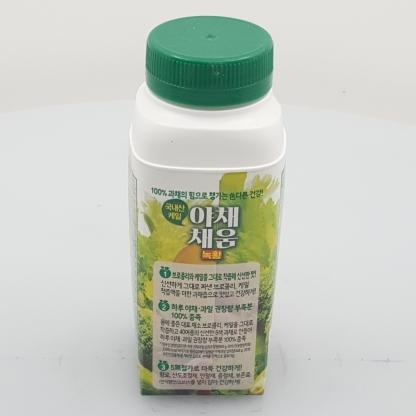---------190ML: (128, 16, 287, 397)
